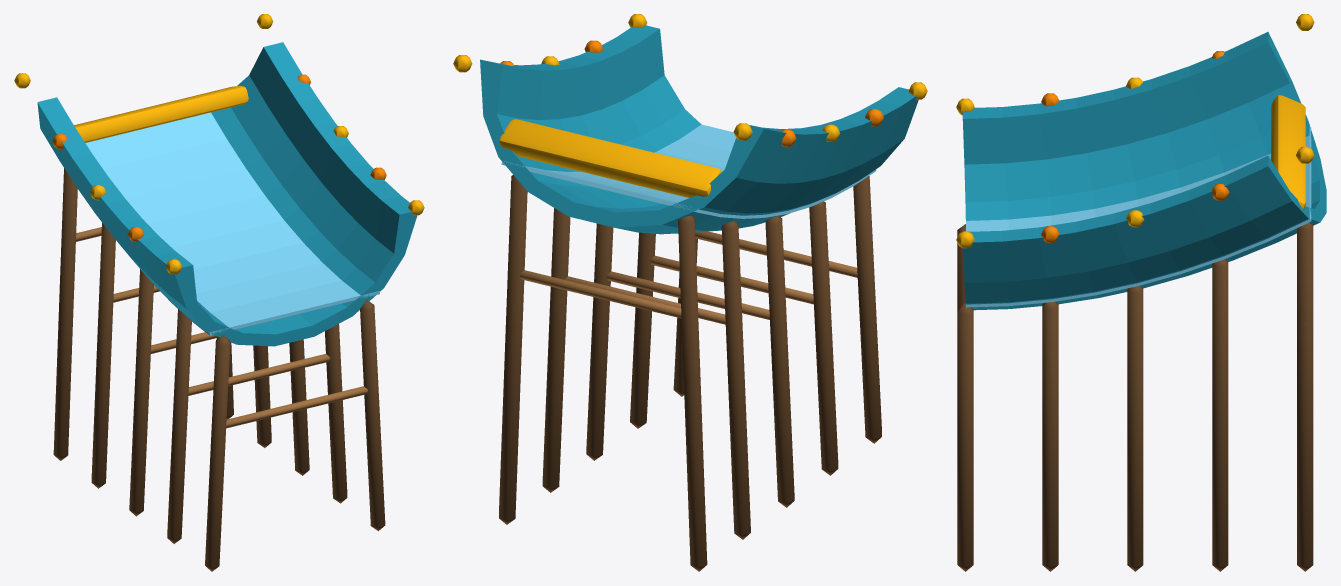
File: W5_Slide_Ramp.fbx
3 views of the same model, side by side, from view 1: azimuth 30°, elevation 25°; view 2: azimuth 150°, elevation 25°; view 3: azimuth 270°, elevation 25° (orthographic). The views are drawn at different scales.
Parts seen in each view (by area): view 1: W5_Slide_Ramp; view 2: W5_Slide_Ramp; view 3: W5_Slide_Ramp.
Boxes of the visible parts, left/top/right/bottom form: W5_Slide_Ramp: left=14, top=14, right=424, bottom=571; W5_Slide_Ramp: left=453, top=14, right=927, bottom=571; W5_Slide_Ramp: left=956, top=14, right=1326, bottom=571.
Bounding box in the file's own units: 7.78 × 11.59 × 8.73.
